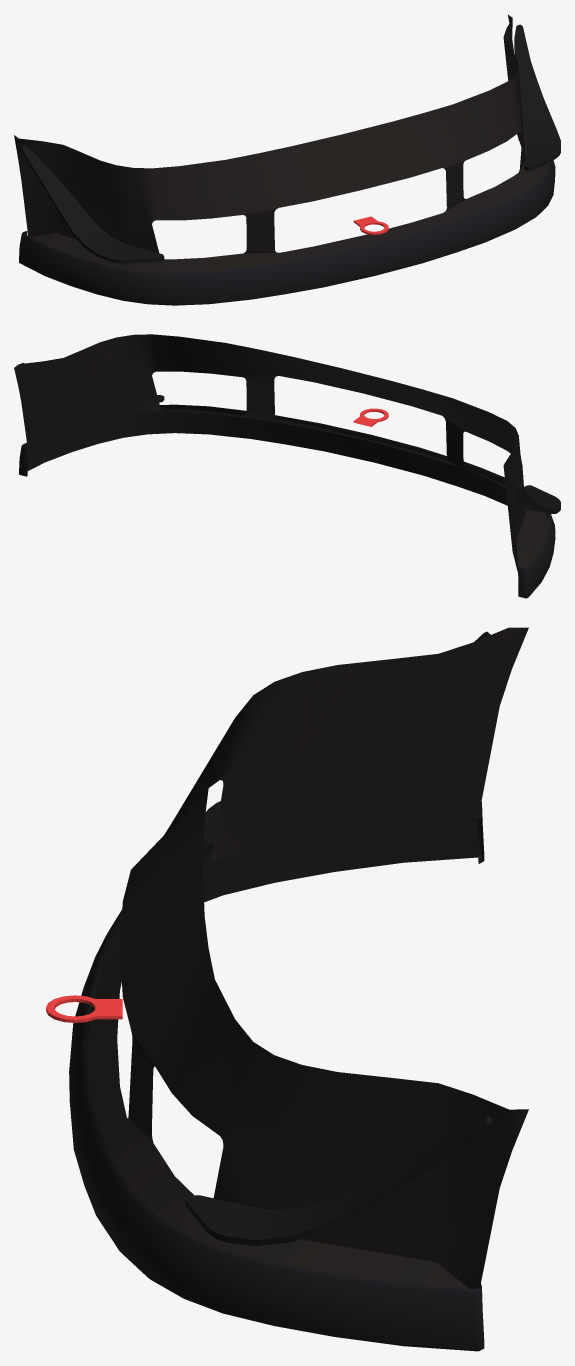
Rendered from RWB_FB_01_Trim.fbx.
3 renders of one model, top to bottom at view 1: azimuth 30°, elevation 25°; view 2: azimuth 150°, elevation 25°; view 3: azimuth 270°, elevation 25°, orthographic. The views are drawn at different scales.
Visible parts, largest first — view 1: RWB_FB_01_Trim; view 2: RWB_FB_01_Trim; view 3: RWB_FB_01_Trim.
Part boxes in pixels (x1,y1,x2,y2): RWB_FB_01_Trim: [14, 15, 560, 305]; RWB_FB_01_Trim: [14, 334, 560, 598]; RWB_FB_01_Trim: [46, 627, 528, 1351].
Size of the model in its own units: 170 by 37.59 by 69.74.
